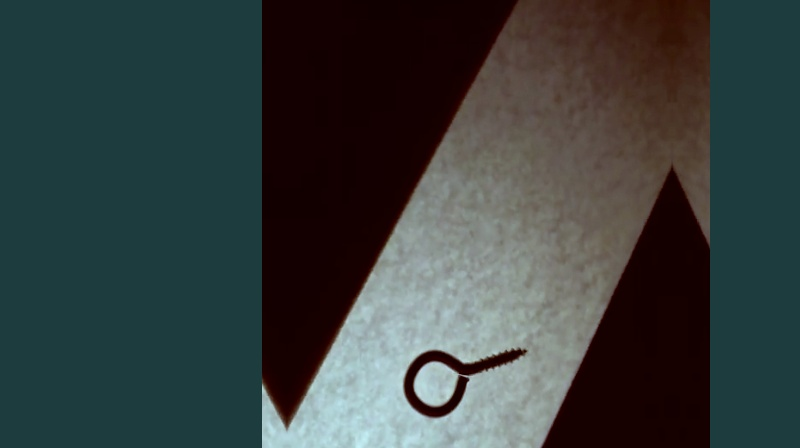O001: (401, 341, 528, 420)
